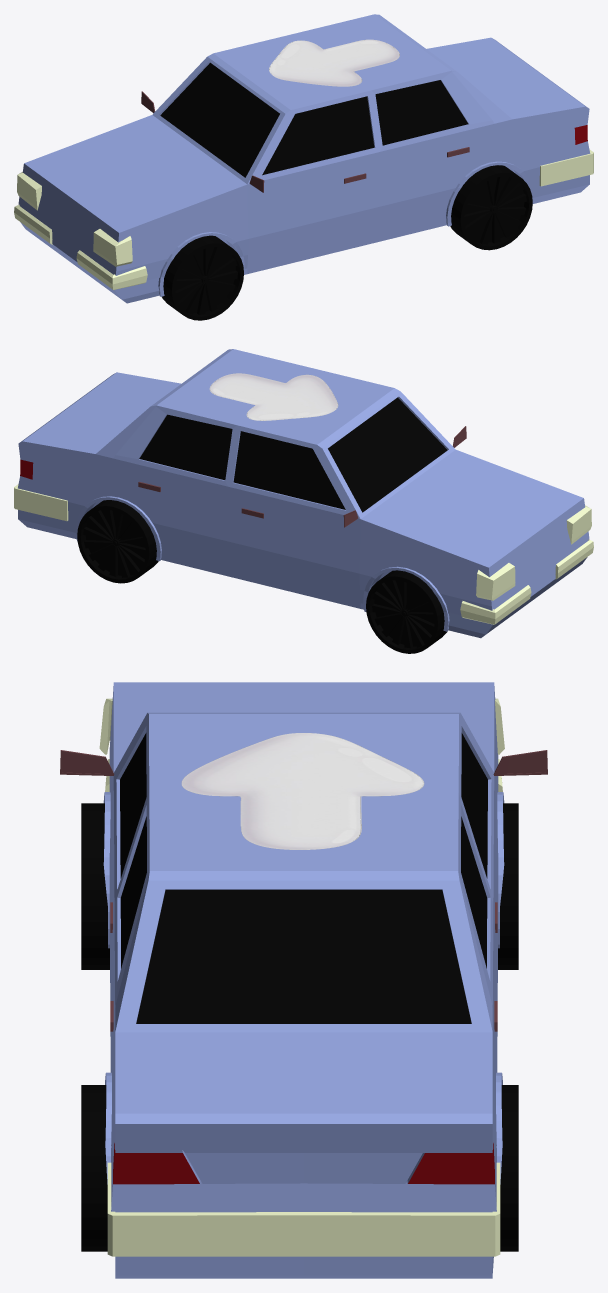
Rendered from car4clot.fbx.
The picture shows the model from 3 angles, top to bottom: view 1: azimuth 30°, elevation 25°; view 2: azimuth 150°, elevation 25°; view 3: azimuth 270°, elevation 25°; orthographic projection. The views are drawn at different scales.
Visible parts, largest first — view 1: Cube, Cylinder.001, Plane.001, Cube.003, Cube.006, Cube.004; view 2: Cube, Cylinder.001, Plane.001, Cube.003, Cube.006, Cube.004; view 3: Cube, Cube.004, Plane.001, Cylinder.001, Cube.005, Cube.006.
Boxes of the visible parts, x1,y1,x2,y2 form: Cube: (18, 14, 590, 303); Cylinder.001: (162, 165, 532, 320); Plane.001: (269, 39, 399, 86); Cube.003: (14, 204, 147, 290); Cube.006: (17, 172, 132, 266); Cube.004: (539, 149, 593, 186); Cube: (18, 349, 589, 638); Cylinder.001: (77, 500, 447, 653); Plane.001: (209, 373, 338, 420); Cube.003: (460, 539, 593, 624); Cube.006: (476, 505, 591, 600); Cube.004: (14, 484, 68, 521); Cube: (103, 682, 504, 1278); Cube.004: (107, 1162, 500, 1256); Plane.001: (181, 733, 424, 849); Cylinder.001: (81, 803, 518, 1251); Cube.005: (60, 750, 547, 775); Cube.006: (99, 698, 504, 754).
Bounding box in the file's own units: 270 × 92.75 × 118.
